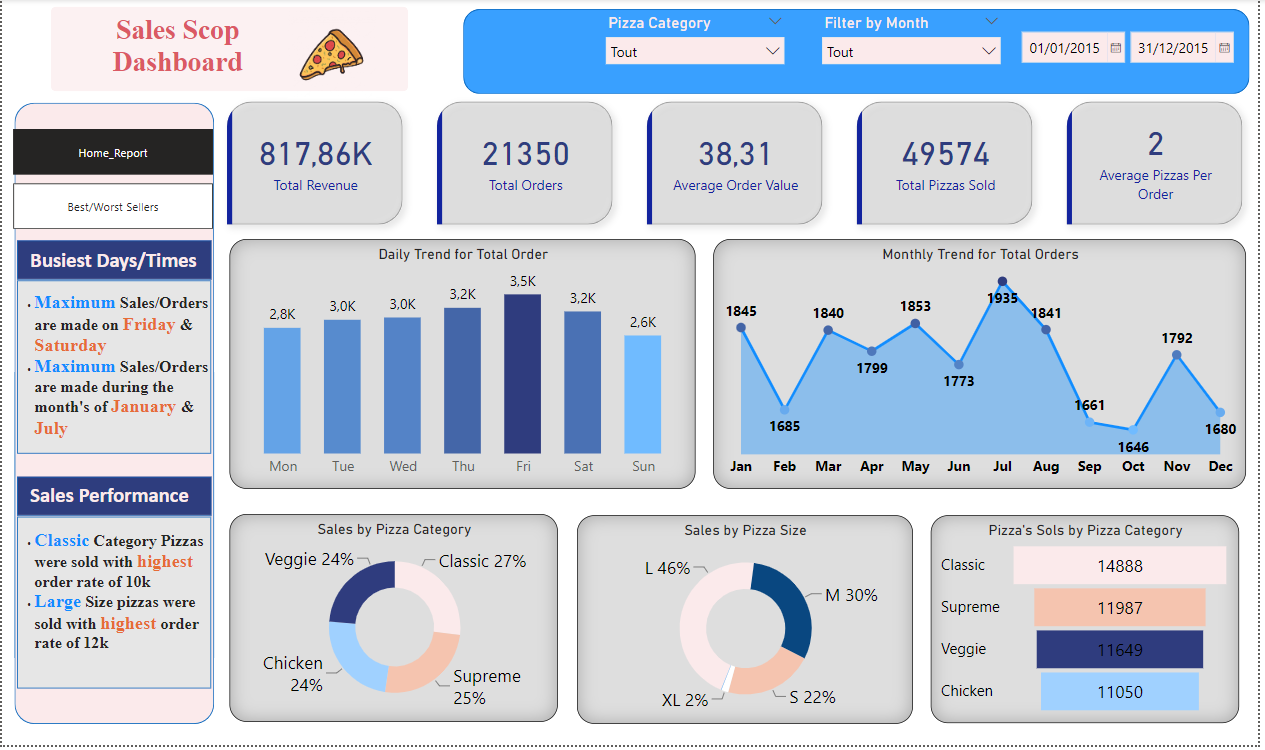

Layout of this report page (visuals, bound fields, positions):
{"tool":"powerbi","page":{"name":"Home_Report","canvas":[1460,867],"ordinal":0},"visuals":[{"type":"cardVisual","fields":{"Data":["pizza_sales.Total Revenue","pizza_sales.Total Orders","pizza_sales.Average Order Value","pizza_sales.Total Pizzas Sold","pizza_sales.Average Pizzas Per Order"]},"box":[245.5,103.3,1213.8,175.3],"z":0},{"type":"shape","title":"Pizza Sales Analysis/Dashboard  (2015)","box":[536.1,11.6,913.8,98.8],"z":1000},{"type":"columnChart","title":"Daily Trend for Total Order","fields":{"Category":["pizza_sales.Order Day"],"Y":["pizza_sales.Total Orders"]},"box":[265,278.6,541.6,290.3],"z":2000},{"type":"areaChart","title":"Monthly Trend for Total Orders","fields":{"Category":["pizza_sales.Order Month"],"Y":["pizza_sales.Total Orders"]},"box":[826.1,278.6,619.6,290.3],"z":3000},{"type":"donutChart","title":"Sales by Pizza Category","fields":{"Category":["pizza_sales.pizza_category"],"Y":["pizza_sales.Total Revenue"]},"box":[265,598.1,381.9,241.6],"z":4000},{"type":"funnel","title":"Pizza''s Sols by Pizza Category","fields":{"Category":["pizza_sales.pizza_category"],"Y":["pizza_sales.Total Pizzas Sold"]},"box":[1079.4,600.1,358.5,241.6],"z":5000},{"type":"donutChart","title":"Sales by Pizza Size","fields":{"Y":["pizza_sales.Total Revenue"],"Category":["pizza_sales.pizza_size"]},"box":[668,600,390,242],"z":6000},{"type":"shape","box":[14,120,232,722],"z":7000},{"type":"shape","box":[14,278,232,52],"z":8000},{"type":"shape","box":[14,552.7,232,52],"z":9000},{"type":"shape","box":[14.2,324.2,231.7,207.5],"z":10000},{"type":"shape","box":[14.2,598.3,231.7,205.8],"z":11000},{"type":"slicer","fields":{"Values":["pizza_sales.pizza_category"]},"box":[691.7,11.7,228,76],"z":12000},{"type":"slicer","fields":{"Values":["pizza_sales.order_date"]},"box":[1172.9,27.3,265,52.6],"z":13000},{"type":"slicer","fields":{"Values":["pizza_sales.Order Month"]},"box":[943,11.7,228,76],"z":14000},{"type":"textbox","box":[28,557,263,41],"z":15000},{"type":"textbox","box":[28,284,263,40],"z":16000},{"type":"textbox","box":[14,336,232,196],"z":17000},{"type":"textbox","box":[14,612,232,178],"z":18000},{"type":"pageNavigator","box":[13.8,151.2,232.5,117.5],"z":19000},{"type":"textbox","box":[116.2,11.6,175.8,103.1],"z":20000},{"type":"image","box":[309.4,8.7,146.7,111.9],"z":21000},{"type":"shape","box":[56.7,8.7,415.5,98.8],"z":22000}]}

Visuals, with their boxes in screenshot pixels (x1, y1, x2, y2), scaled from the page's 1460x867 canvas onto the 1265x750 screenshot:
cardVisual - pizza_sales.Total Revenue x pizza_sales.Total Orders: {"x1": 213, "y1": 89, "x2": 1264, "y2": 241}
"Pizza Sales Analysis/Dashboard  (2015)" shape: {"x1": 464, "y1": 10, "x2": 1256, "y2": 96}
"Daily Trend for Total Order" columnChart: {"x1": 230, "y1": 241, "x2": 699, "y2": 492}
"Monthly Trend for Total Orders" areaChart: {"x1": 716, "y1": 241, "x2": 1253, "y2": 492}
"Sales by Pizza Category" donutChart: {"x1": 230, "y1": 517, "x2": 560, "y2": 726}
"Pizza''s Sols by Pizza Category" funnel: {"x1": 935, "y1": 519, "x2": 1246, "y2": 728}
"Sales by Pizza Size" donutChart: {"x1": 579, "y1": 519, "x2": 917, "y2": 728}
shape: {"x1": 12, "y1": 104, "x2": 213, "y2": 728}
shape: {"x1": 12, "y1": 240, "x2": 213, "y2": 285}
shape: {"x1": 12, "y1": 478, "x2": 213, "y2": 523}
shape: {"x1": 12, "y1": 280, "x2": 213, "y2": 460}
shape: {"x1": 12, "y1": 518, "x2": 213, "y2": 696}
slicer - pizza_sales.pizza_category: {"x1": 599, "y1": 10, "x2": 797, "y2": 76}
slicer - pizza_sales.order_date: {"x1": 1016, "y1": 24, "x2": 1246, "y2": 69}
slicer - pizza_sales.Order Month: {"x1": 817, "y1": 10, "x2": 1015, "y2": 76}
textbox: {"x1": 24, "y1": 482, "x2": 252, "y2": 517}
textbox: {"x1": 24, "y1": 246, "x2": 252, "y2": 280}
textbox: {"x1": 12, "y1": 291, "x2": 213, "y2": 460}
textbox: {"x1": 12, "y1": 529, "x2": 213, "y2": 683}
pageNavigator: {"x1": 12, "y1": 131, "x2": 213, "y2": 232}
textbox: {"x1": 101, "y1": 10, "x2": 253, "y2": 99}
image: {"x1": 268, "y1": 8, "x2": 395, "y2": 104}
shape: {"x1": 49, "y1": 8, "x2": 409, "y2": 93}
